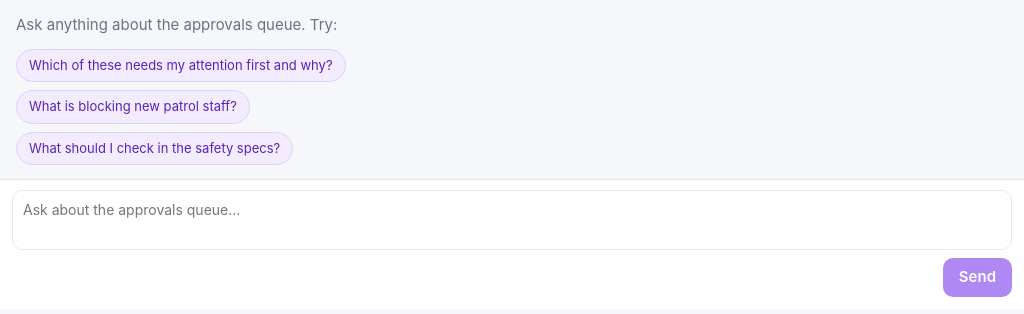
TalkView › suggests questions to start with, and sends one when clicked
The image size is (1024, 314).
What coordinates should you click on to do the following:
click the button "Which of these needs my attention first and why?"
I would click on:
 (181, 65)
Its box is [16,48,346,82].
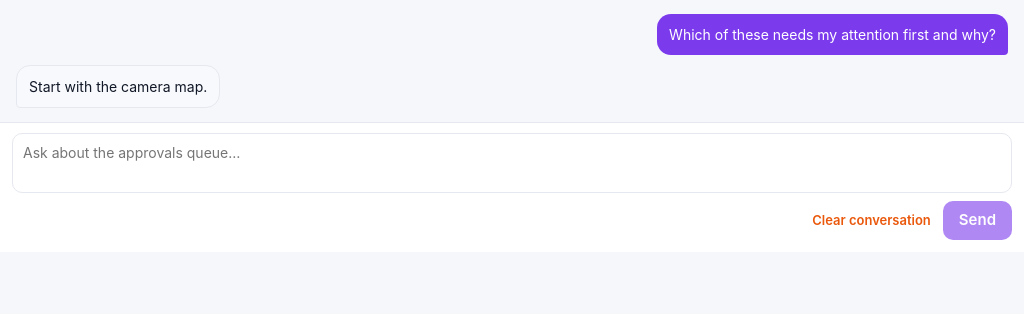
Now the text "Start with the camera map." is shown, box [29,76,207,97]
